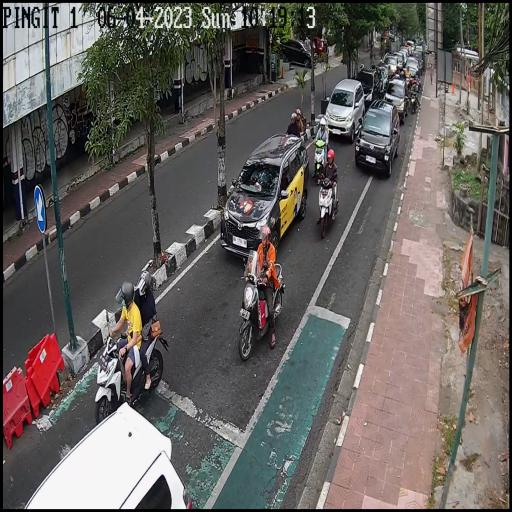mobil: (218, 134, 309, 261), (356, 99, 400, 178), (322, 77, 366, 144), (354, 64, 378, 112), (384, 78, 409, 124)
motor: (92, 323, 170, 426), (237, 262, 287, 359), (316, 175, 340, 239), (312, 139, 328, 180), (410, 88, 418, 114)
